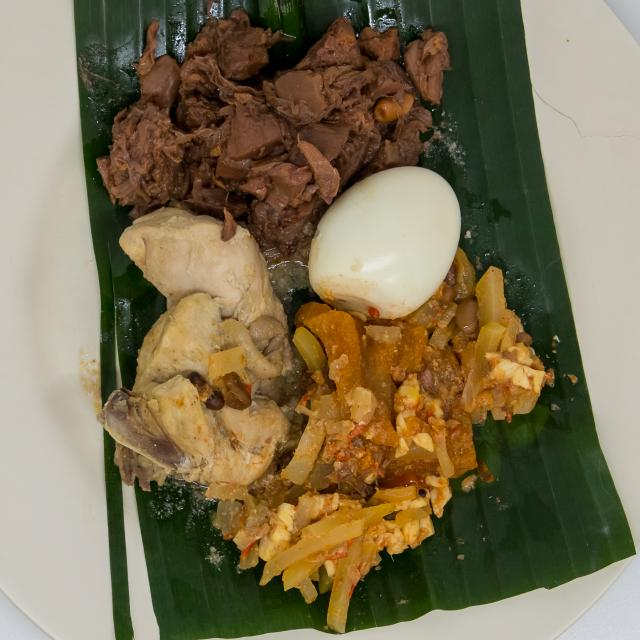Gudeg-Jogja: (55, 0, 560, 613)
